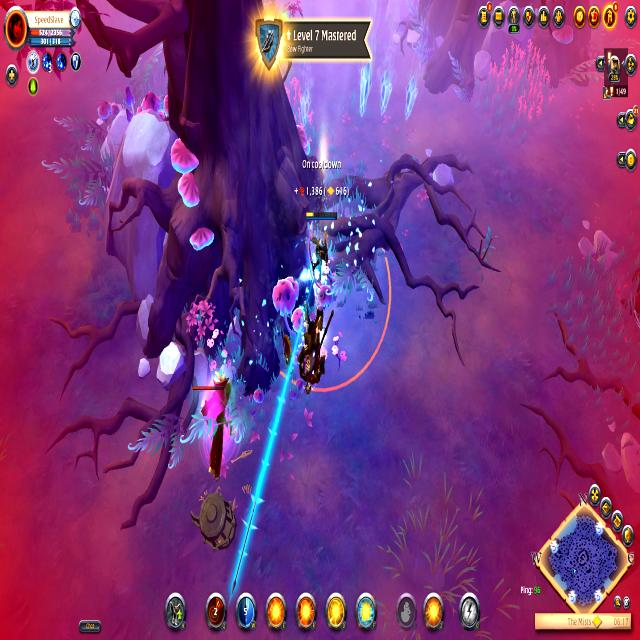ore: (190, 371, 240, 488)
red: (302, 206, 339, 278)
silver: (280, 238, 392, 394)
